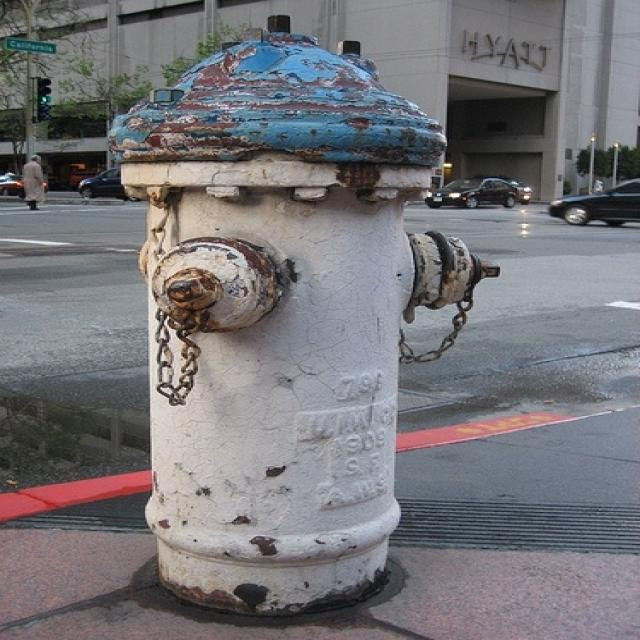fire_hydrant: (72, 51, 453, 603)
